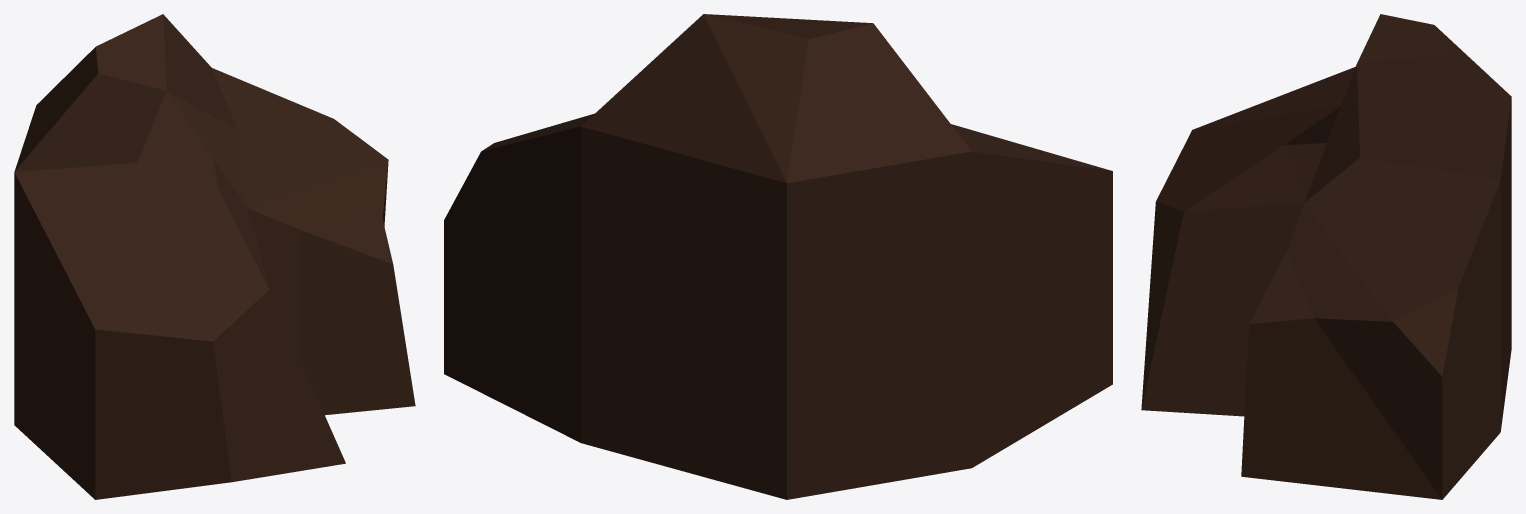
File: Rock4.glb
3 views of the same model, side by side, from view 1: azimuth 30°, elevation 25°; view 2: azimuth 150°, elevation 25°; view 3: azimuth 270°, elevation 25° (orthographic). The views are drawn at different scales.
Parts seen in each view (by area): view 1: Rock 4; view 2: Rock 4; view 3: Rock 4.
Part boxes in pixels (x1=…): Rock 4: x1=14, y1=14, x2=415, y2=499; Rock 4: x1=444, y1=14, x2=1112, y2=499; Rock 4: x1=1141, y1=14, x2=1511, y2=499.
Size of the model in its own units: 5.03 by 4.12 by 3.94.
1 material, 1 textured.
